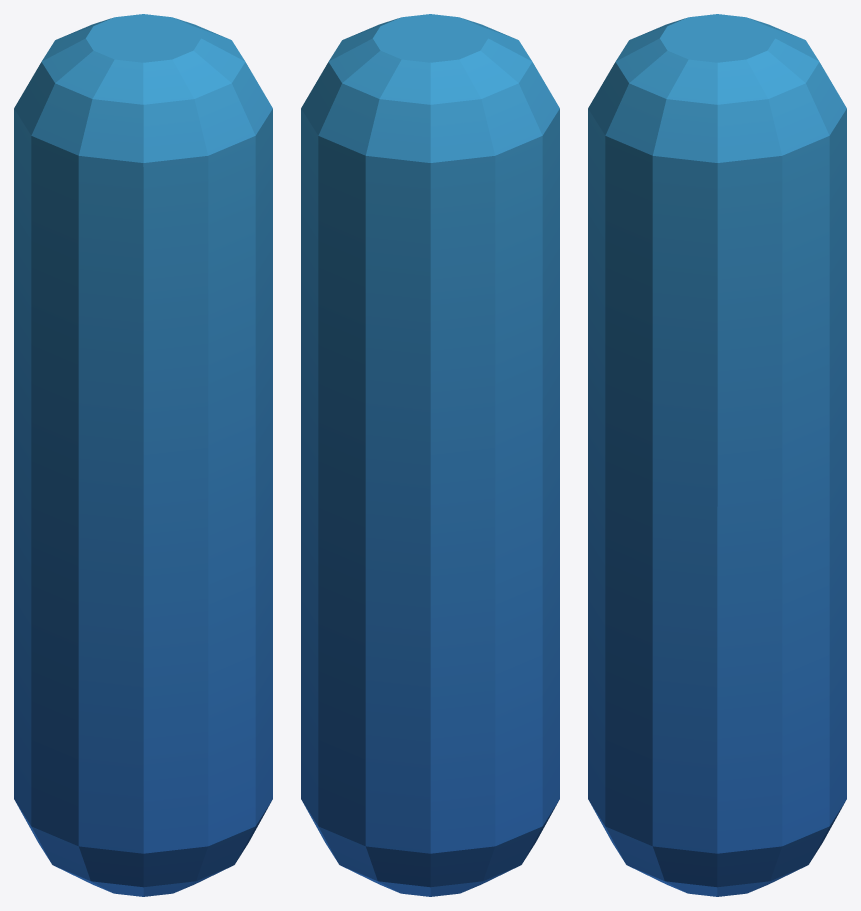
File: Perso_JambeR.fbx
3 renders of one model, left to right at view 1: azimuth 30°, elevation 25°; view 2: azimuth 150°, elevation 25°; view 3: azimuth 270°, elevation 25°, orthographic.
Parts seen in each view (by area): view 1: Perso_JambeR; view 2: Perso_JambeR; view 3: Perso_JambeR.
Boxes of the visible parts, x1,y1,x2,y2 form: Perso_JambeR: (14,14,272,896); Perso_JambeR: (301,14,559,896); Perso_JambeR: (588,14,846,896).
Size of the model in its own units: 42.88 by 152 by 42.88.
